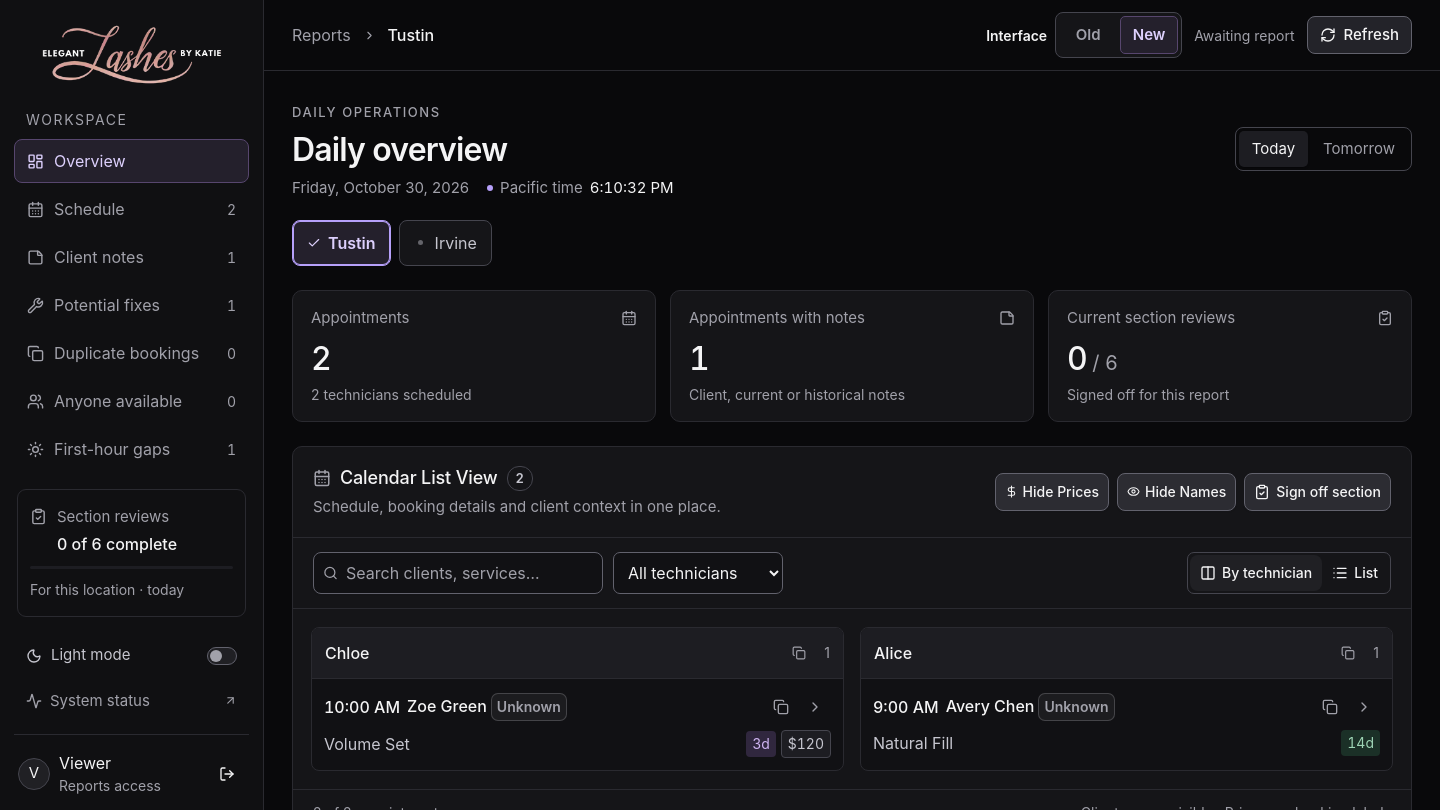
an open detail sheet cannot survive a change of viewer context
Expected: the button with aria-label "Sign off Calendar List View" is shown, top-left (1244, 473), bottom-right (1391, 511)
Click the button named "View 9:00 AM appointment details" at [1364, 707], box top-left (1348, 691), bottom-right (1380, 723)
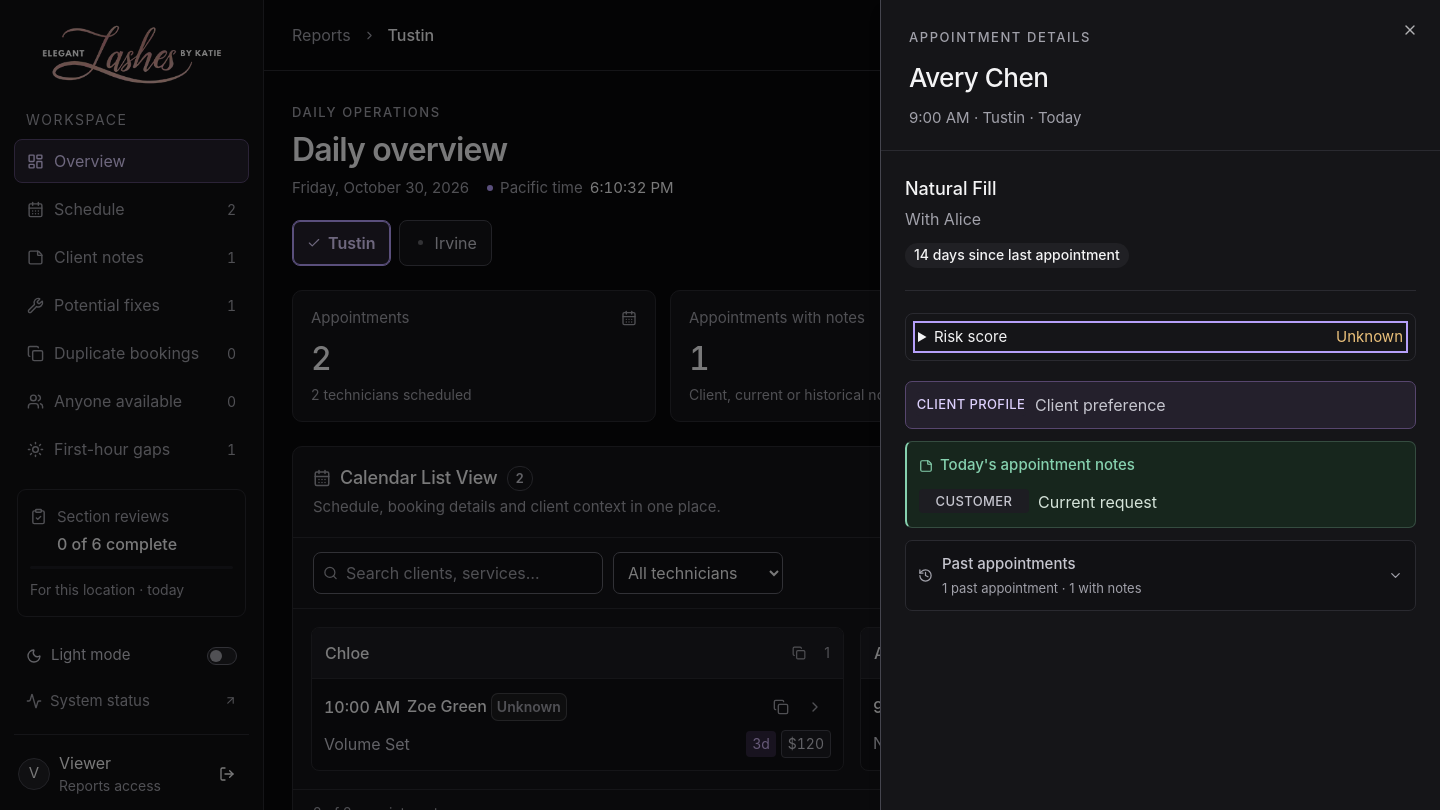
Expected: the dialog is shown, top-left (880, 0), bottom-right (1439, 809)
